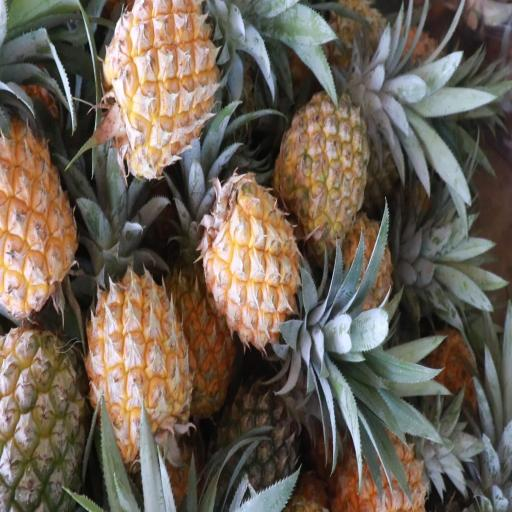------------------------------: (0, 330, 87, 510), (276, 93, 365, 244)
Pineapple - v8 v1: (101, 0, 218, 174), (90, 274, 189, 457), (206, 172, 304, 348), (0, 119, 79, 320), (172, 270, 234, 416), (336, 422, 436, 512)
